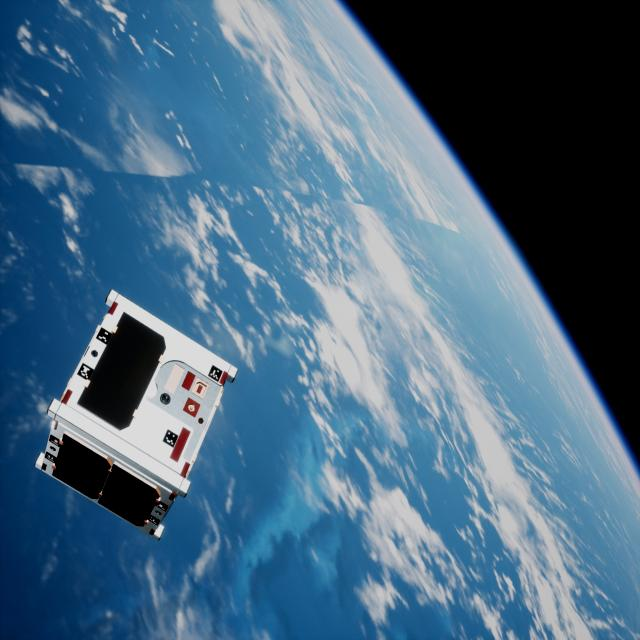satellite: (27, 284, 240, 540)
